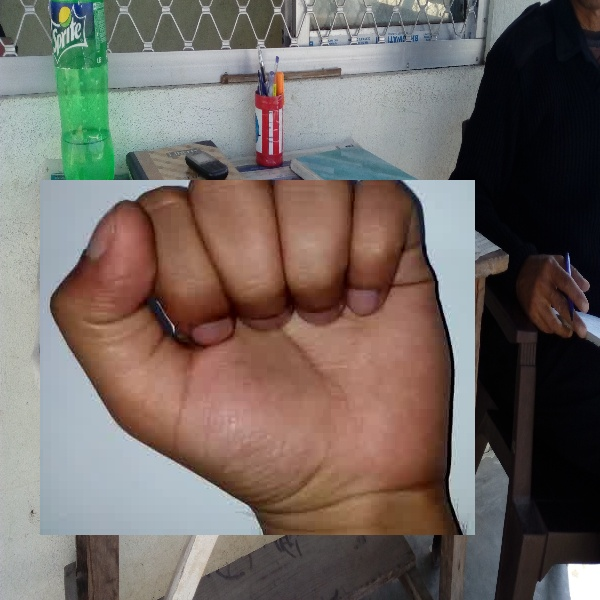A: (40, 180, 475, 535)
